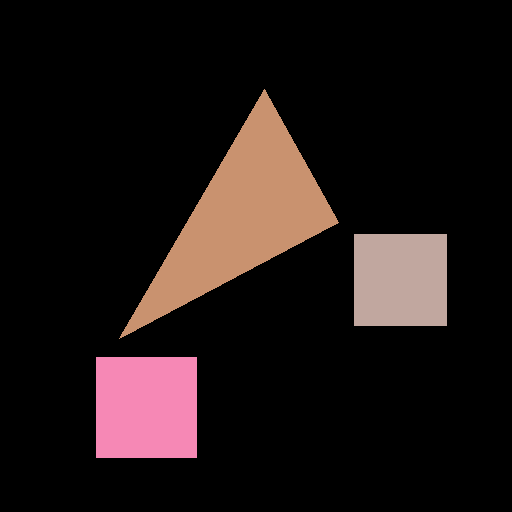square: (96, 357, 196, 457), (354, 234, 446, 325)
triangle: (119, 89, 338, 338)
